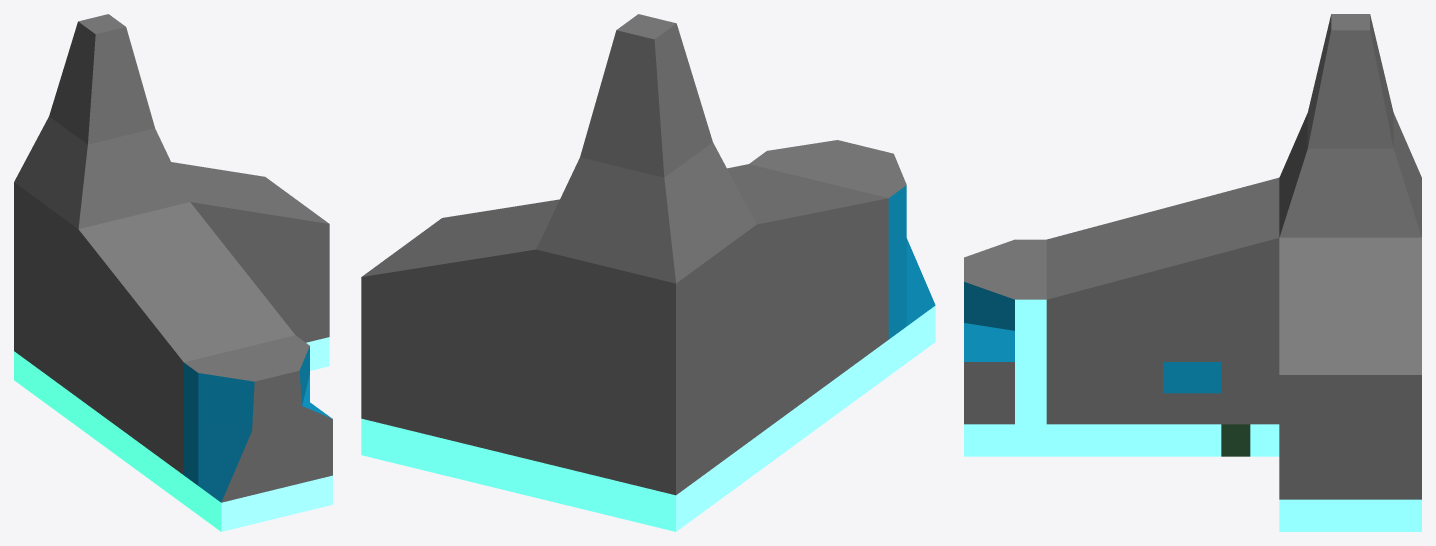
Rendered from SD_House1.fbx.
The picture shows the model from 3 angles, left to right: view 1: azimuth 30°, elevation 25°; view 2: azimuth 150°, elevation 25°; view 3: azimuth 270°, elevation 25°; orthographic projection. The views are drawn at different scales.
Visible parts, largest first — view 1: Cube; view 2: Cube; view 3: Cube.
Boxes of the visible parts, x1,y1,x2,y2 form: Cube: (14, 14, 332, 531); Cube: (361, 14, 935, 531); Cube: (964, 14, 1421, 531).
Bounding box in the file's own units: 1800 × 2506 × 2571.
